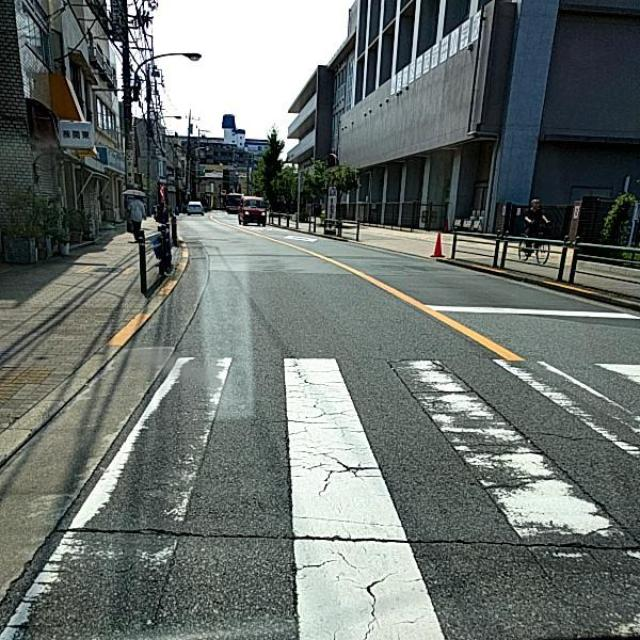Crack: (427, 353, 640, 606), (280, 338, 418, 624)
